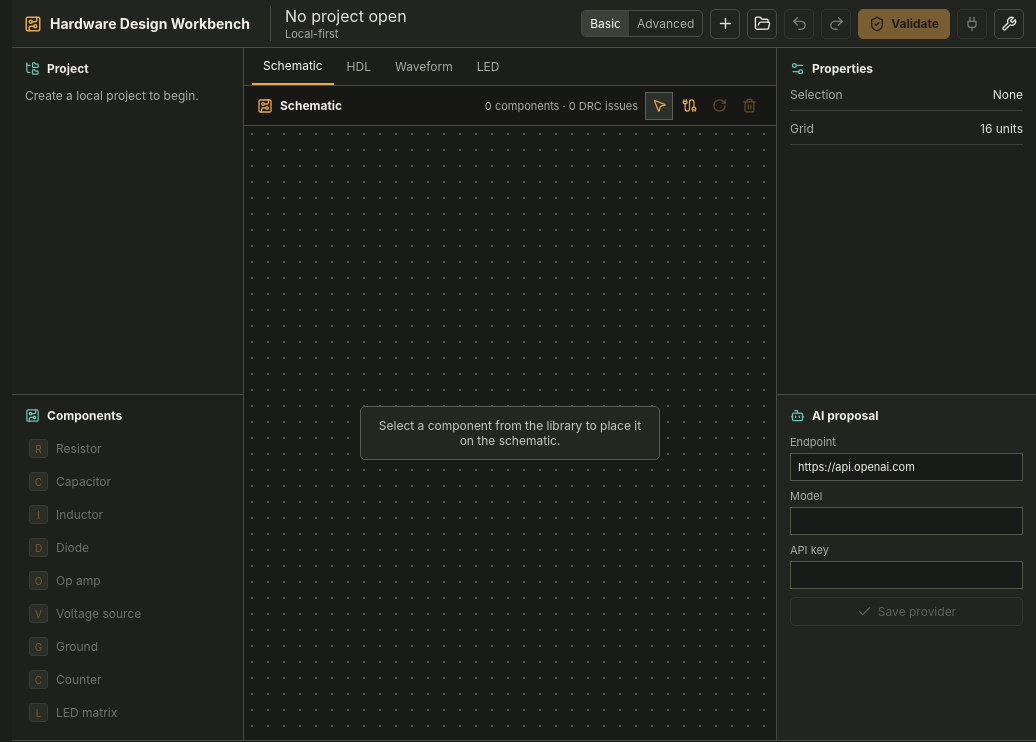
Scenario: App › switches between work surfaces without leaving the workspace
This screenshot has width=1036, height=742.
Click the tab "LED".
click(488, 66)  # box [466,48,510,85]
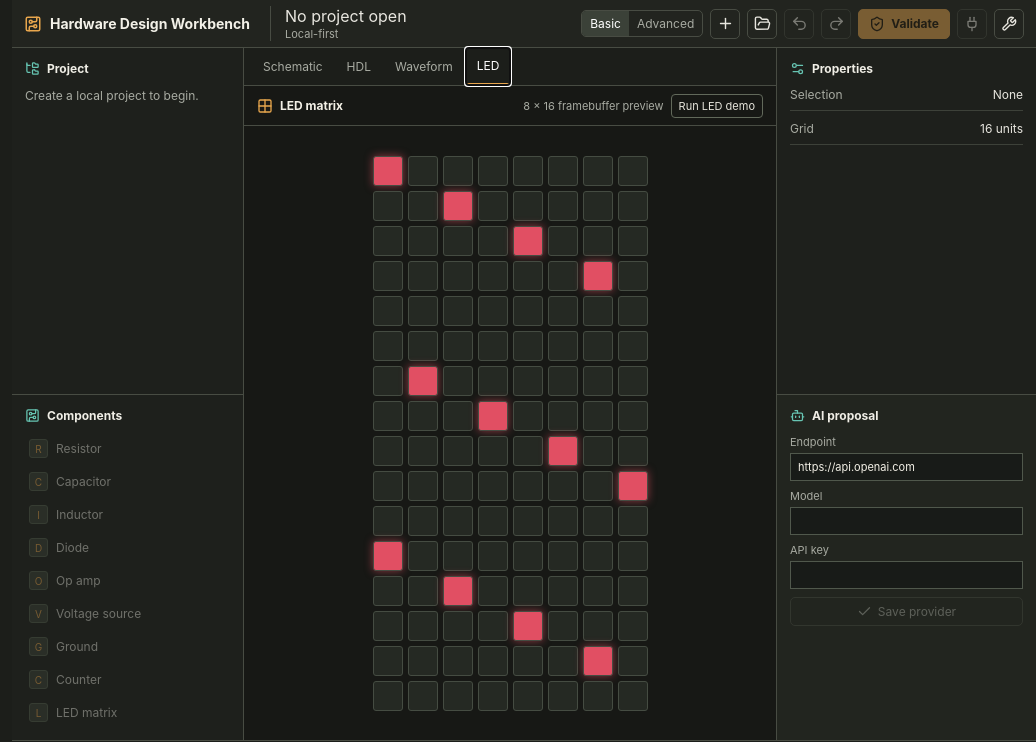
Expected: the tab "Schematic" is shown, [252,48,334,85]
Now the heading "LED matrix" is shown, box [280,98,343,113]
